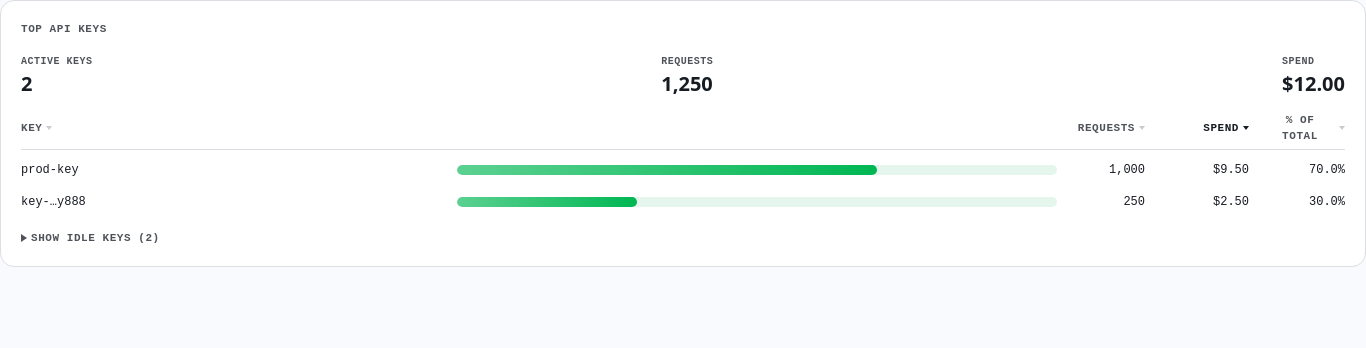
Test case: TopKeys idle filtering › reveals idle keys on toggle click and can hide them again
Click the button "Show idle keys (2)" at (90, 238), box [21,230,160,246]
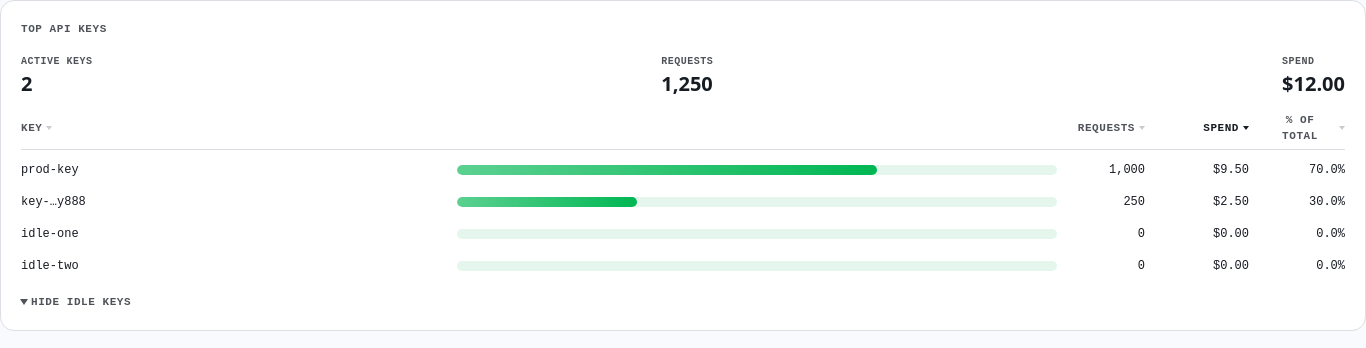
Expected: the text "idle-one" is shown, [21,226,79,242]
Click the button "Hide idle keys" at (76, 302), box [21,294,131,310]
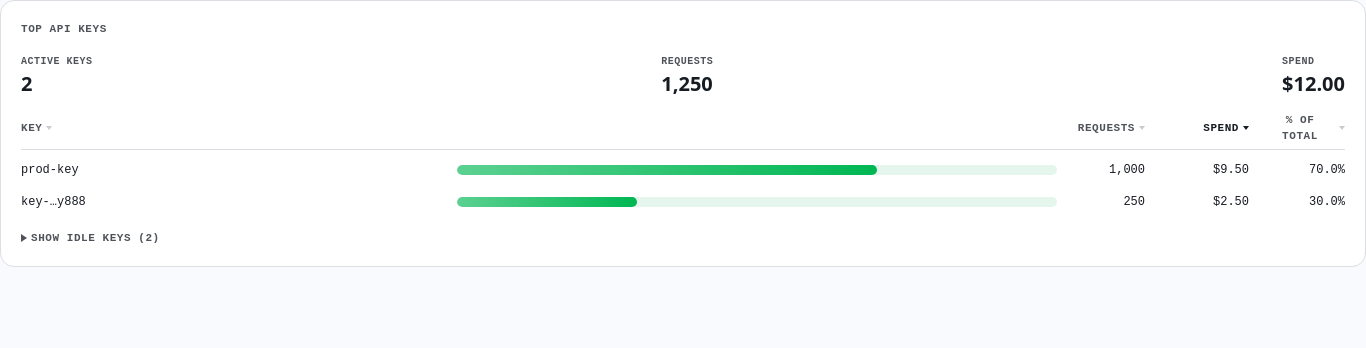
Expected: the text "idle-one" is gone
